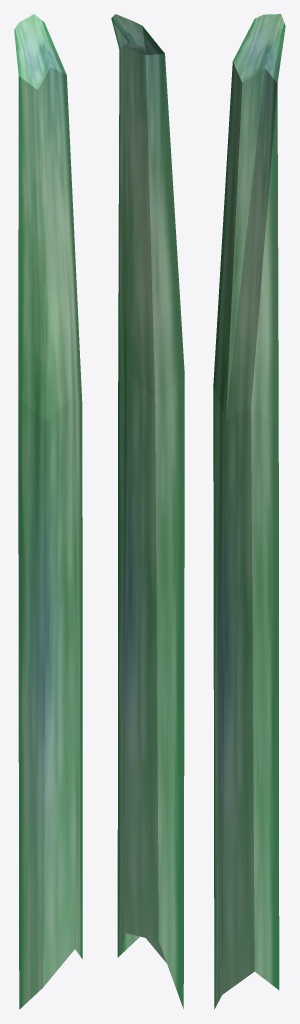
File: crypt_water_gargoyle.fbx
The picture shows the model from 3 angles, left to right: view 1: azimuth 30°, elevation 25°; view 2: azimuth 150°, elevation 25°; view 3: azimuth 330°, elevation 25°; orthographic projection. The views are drawn at different scales.
Visible parts, largest first — view 1: obj1.019; view 2: obj1.019; view 3: obj1.019.
Part boxes in pixels (x1=…): obj1.019: x1=14, y1=14, x2=82, y2=1009; obj1.019: x1=111, y1=14, x2=184, y2=1008; obj1.019: x1=213, y1=14, x2=285, y2=1009.
Size of the model in its own units: 1.03 by 14.75 by 0.9237.
